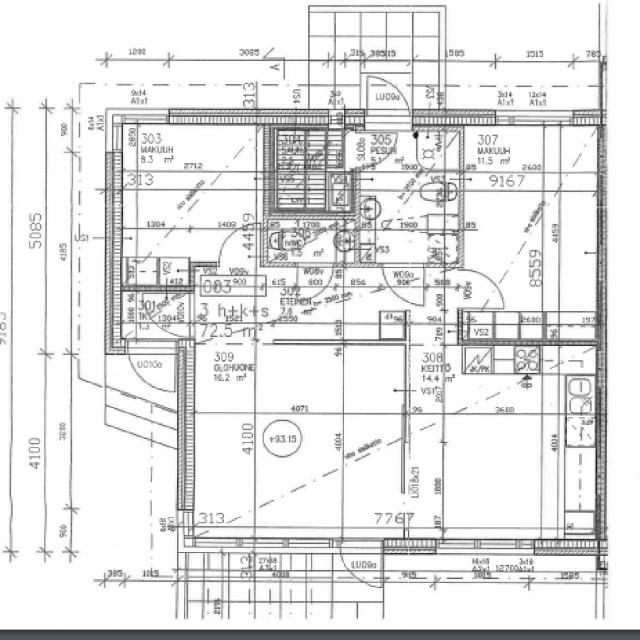door: (367, 68, 411, 131), (128, 338, 174, 398), (341, 538, 384, 594), (144, 292, 194, 334), (351, 133, 399, 169), (220, 224, 260, 267), (458, 270, 504, 307), (382, 262, 422, 304), (297, 262, 333, 301)
